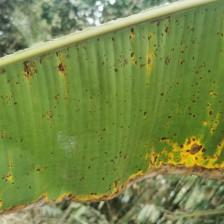pestalotiopsis: (0, 0, 224, 213)
